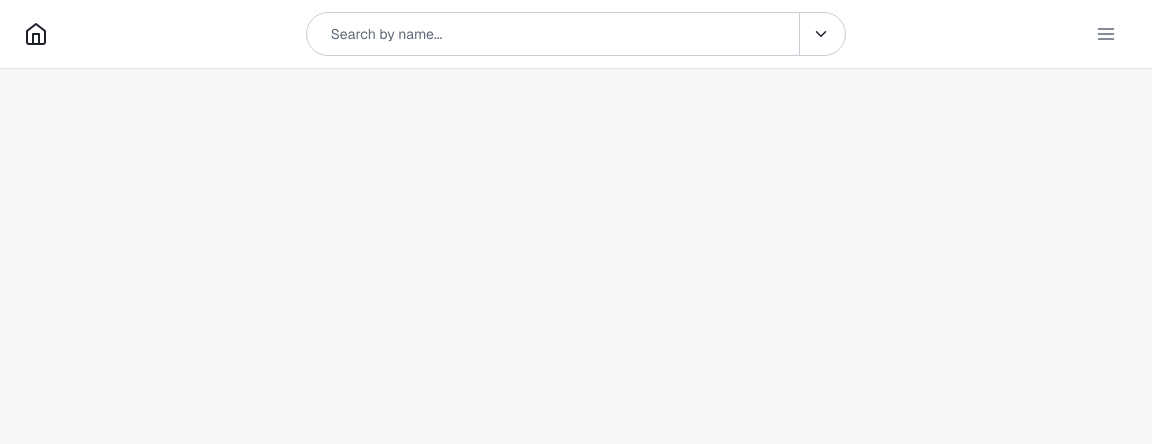
Test case: folding on a narrow viewport › folds the filter to an arrow, and opens sort and search-by in one panel
Click the button named "Filter": click(821, 34) [800, 13, 842, 55]
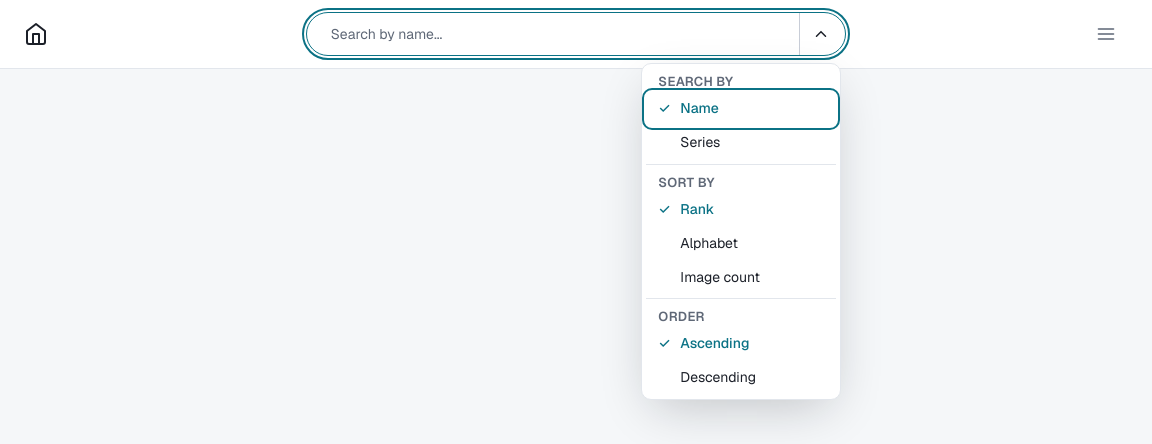
expect the menu named "Filter" is shown: met, box [641, 63, 841, 400]
expect the menu item "✓ Name" is shown: met, box [646, 92, 836, 126]
expect the menu item "Series" is shown: met, box [646, 126, 836, 160]
Click the menu item "Alphabet": click(741, 243) [646, 226, 836, 260]
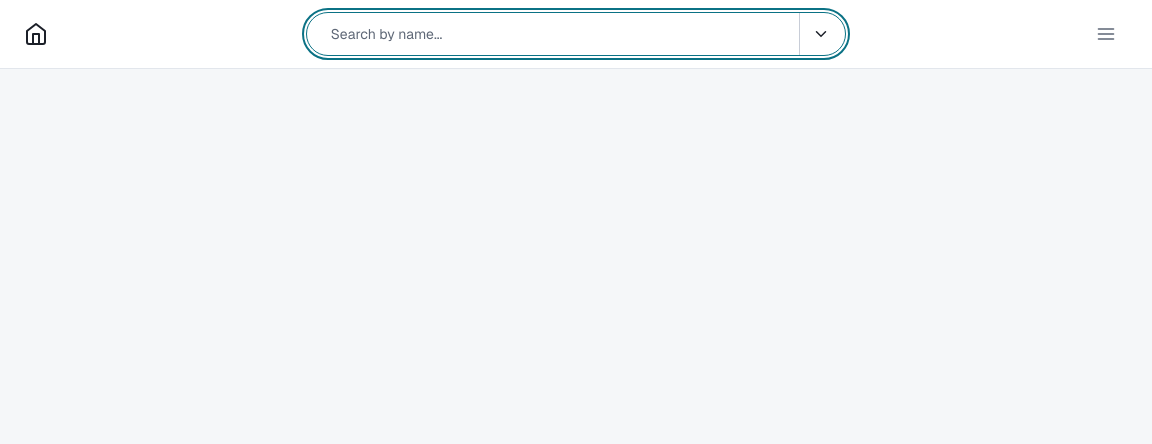
expect the menu is gone: met
